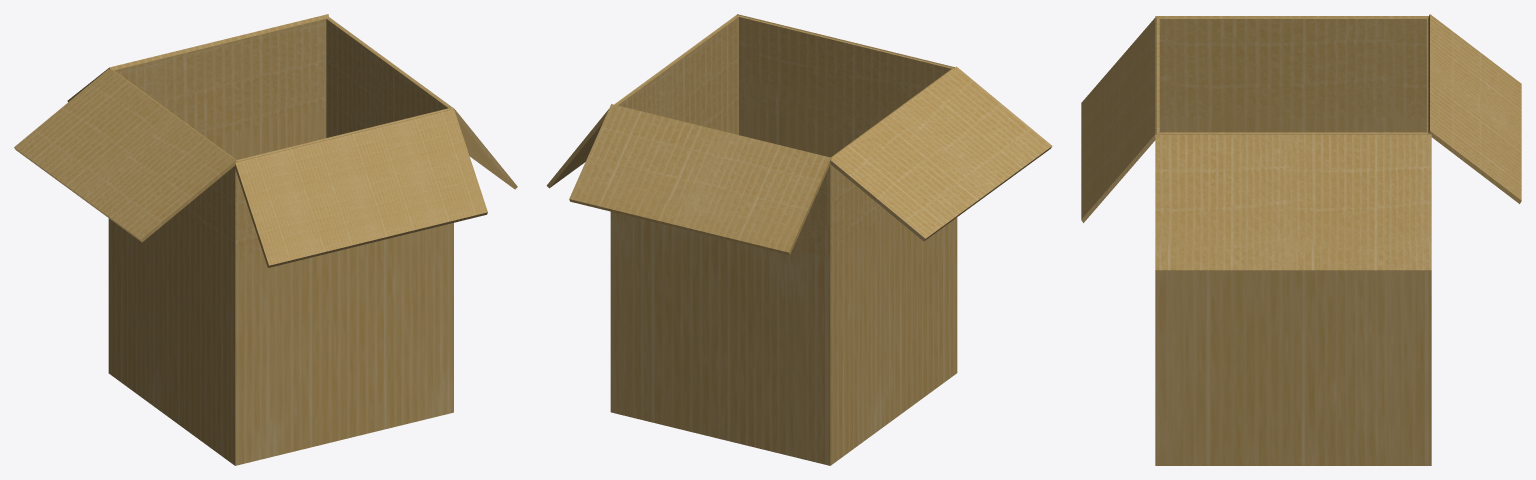
File: Cardboard_F.fbx
The picture shows the model from 3 angles, left to right: view 1: azimuth 30°, elevation 25°; view 2: azimuth 150°, elevation 25°; view 3: azimuth 270°, elevation 25°; orthographic projection. The views are drawn at different scales.
Visible parts, largest first — view 1: Cardboard_Ftype; view 2: Cardboard_Ftype; view 3: Cardboard_Ftype.
Part boxes in pixels (x1,y1,x2,y2): Cardboard_Ftype: [14, 14, 517, 465]; Cardboard_Ftype: [546, 14, 1052, 465]; Cardboard_Ftype: [1081, 14, 1521, 465].
Size of the model in its own units: 345 by 268 by 319.
